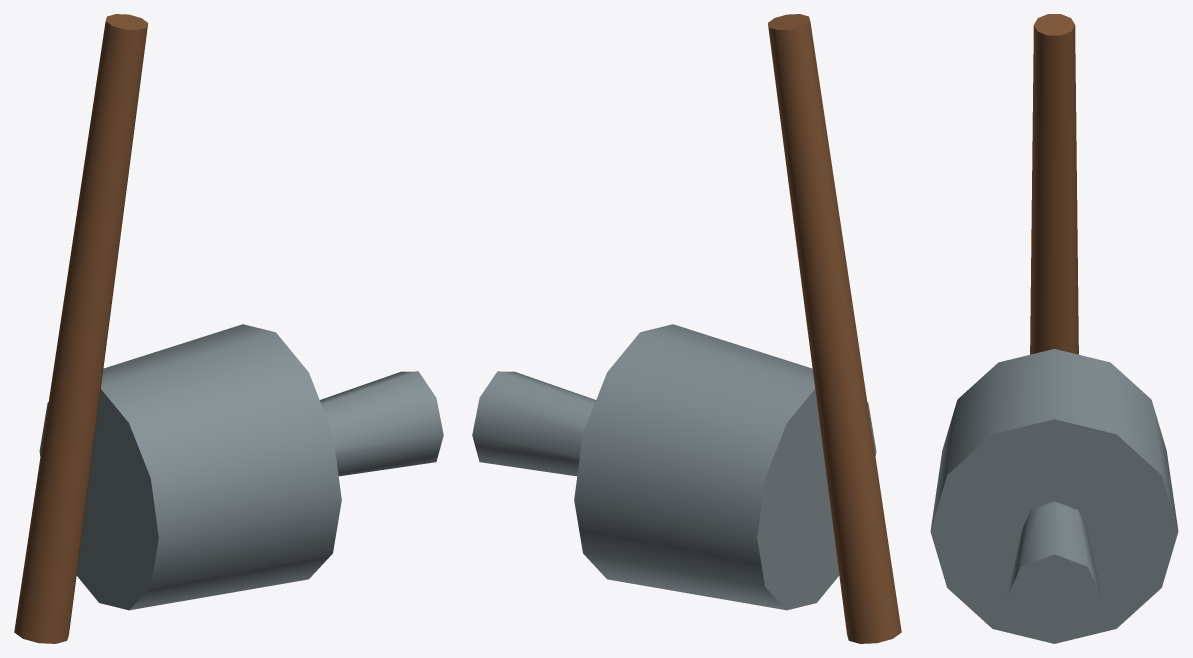
File: tool_watering_can.glb
The picture shows the model from 3 angles, left to right: view 1: azimuth 30°, elevation 25°; view 2: azimuth 150°, elevation 25°; view 3: azimuth 270°, elevation 25°; orthographic projection. The views are drawn at different scales.
Visible parts, largest first — view 1: can_body, handle, spout; view 2: can_body, handle, spout; view 3: can_body, handle, spout.
Part boxes in pixels (bbox=[...]): can_body: bbox=[39, 324, 341, 610]; handle: bbox=[14, 14, 147, 643]; spout: bbox=[320, 371, 443, 476]; can_body: bbox=[574, 324, 876, 610]; handle: bbox=[768, 14, 901, 643]; spout: bbox=[472, 371, 595, 476]; can_body: bbox=[930, 349, 1178, 643]; handle: bbox=[1030, 14, 1078, 354]; spout: bbox=[1007, 501, 1101, 639].
Size of what is drawn, in the model's own units: 1.47 by 2.1 by 0.84.
